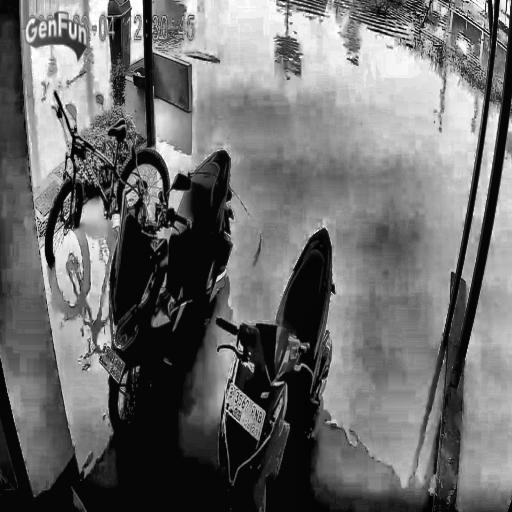banjir: (154, 0, 483, 511), (459, 119, 512, 511), (42, 203, 109, 461), (151, 328, 229, 510)
